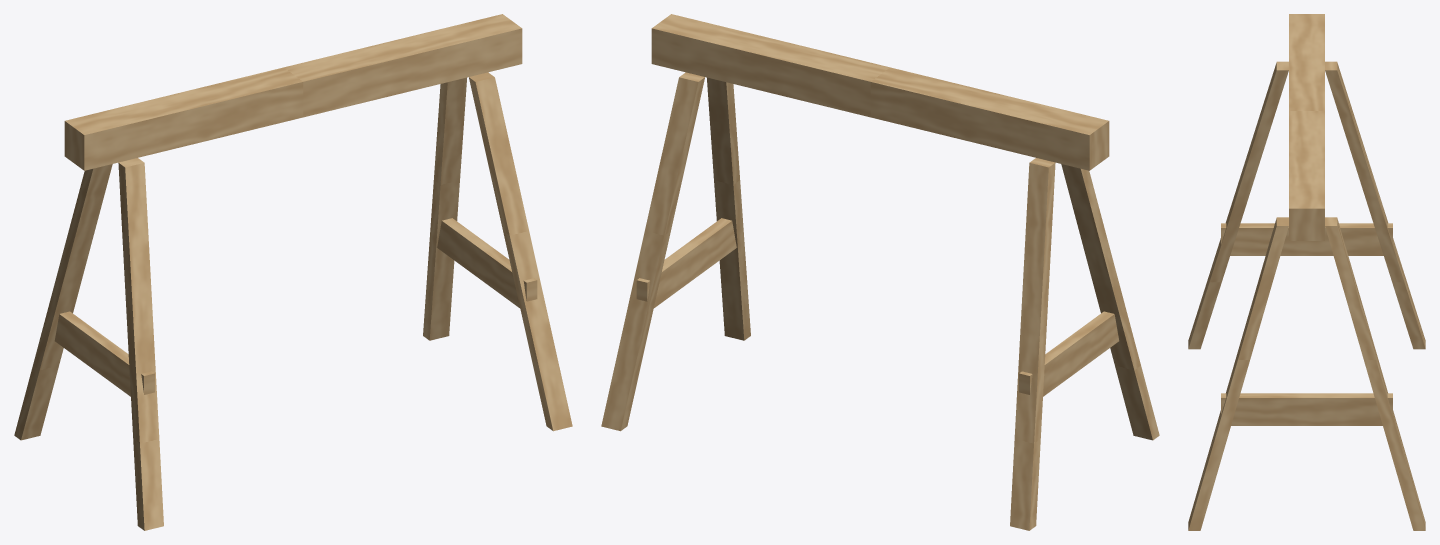
The picture shows the model from 3 angles, left to right: view 1: azimuth 30°, elevation 25°; view 2: azimuth 150°, elevation 25°; view 3: azimuth 270°, elevation 25°; orthographic projection. The views are drawn at different scales.
Parts seen in each view (by area): view 1: Sawhorse, wooden; view 2: Sawhorse, wooden; view 3: Sawhorse, wooden.
Part boxes in pixels (<box>): Sawhorse, wooden: <box>14,14,572,530</box>; Sawhorse, wooden: <box>601,14,1159,530</box>; Sawhorse, wooden: <box>1188,14,1425,530</box>.
Size of the model in its own units: 0.9 by 0.7 by 0.464.
1 material, 1 textured.
